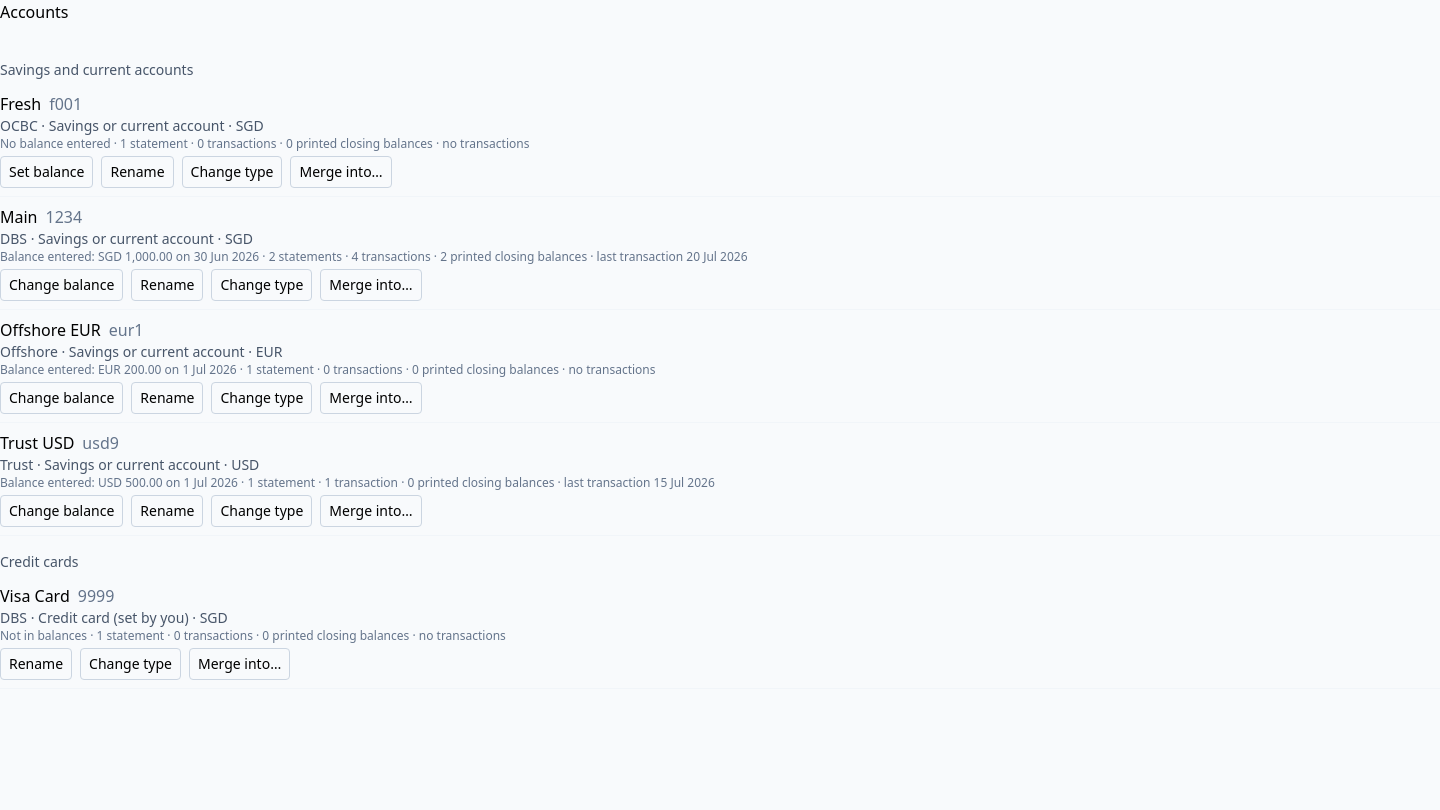
Scenario: AccountsSection: the actions › after a rename: closes the dialog, reports it, and shows the new name from a refreshed list
The width and height of the screenshot is (1440, 810).
Click the button "Rename" below "Main" at [167, 285], box left=131, top=269, right=204, bottom=301
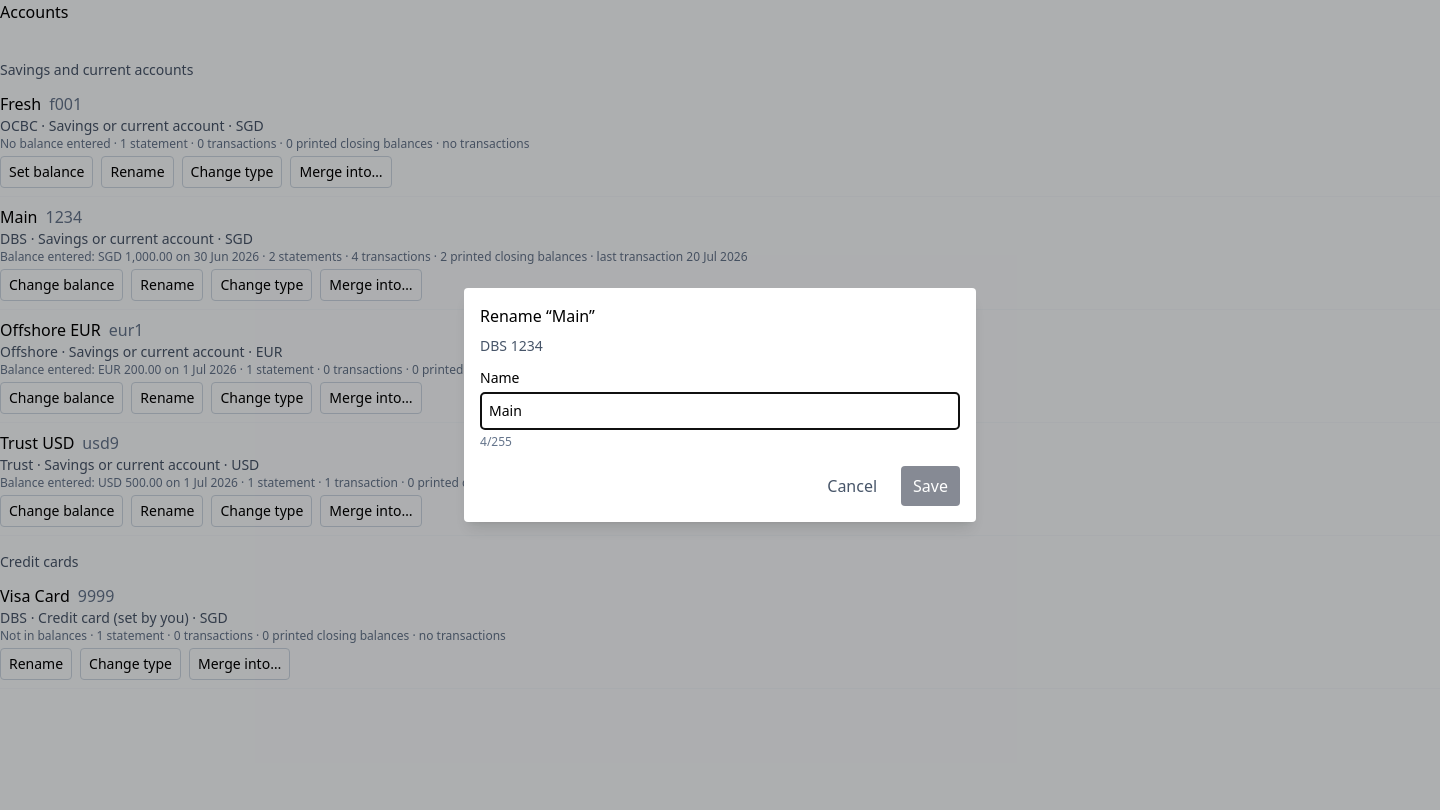
Replace the text in the field with test id "rename-input" with "Everyday" at [720, 411], box left=480, top=392, right=960, bottom=430
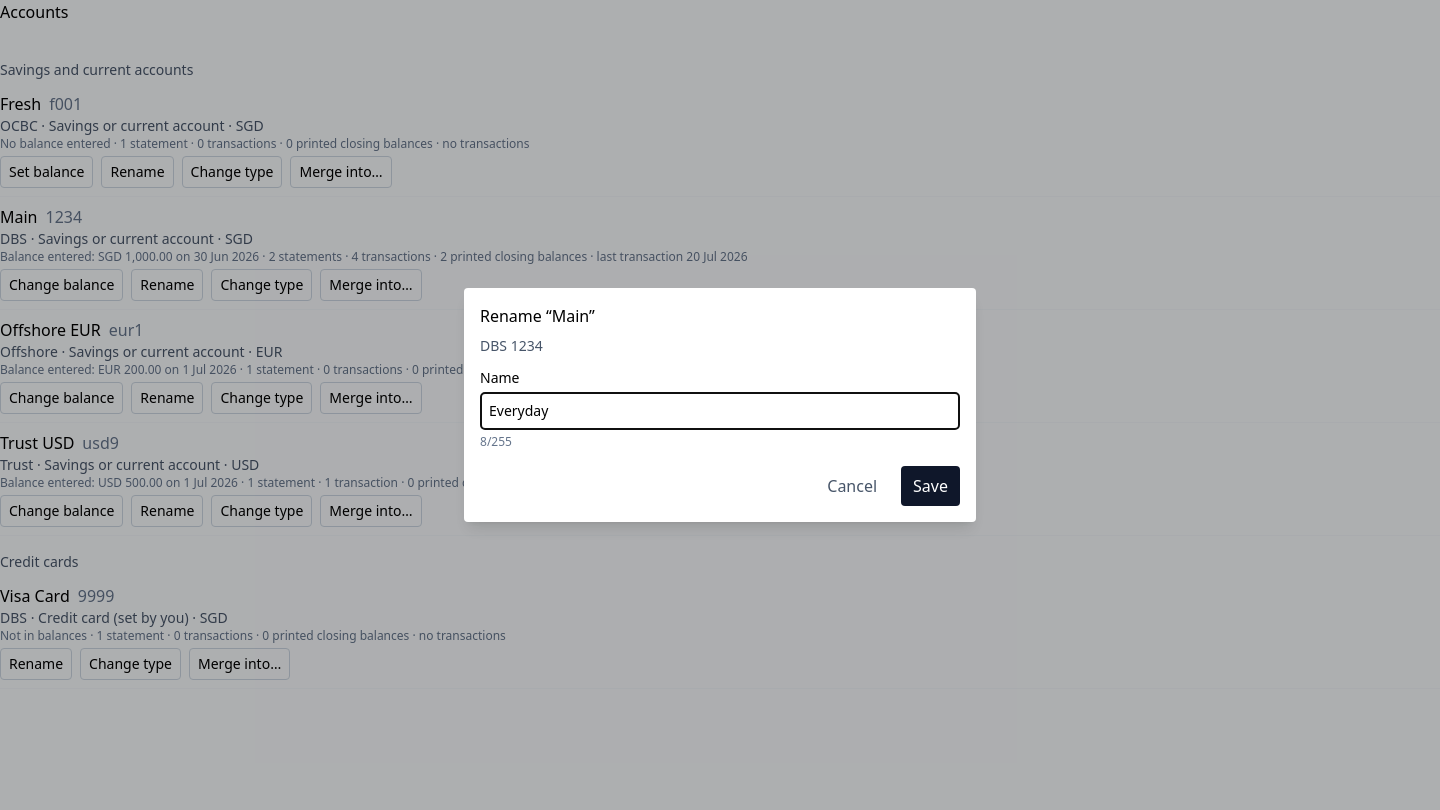
Click the button with test id "rename-save" at [931, 486], box left=901, top=466, right=960, bottom=506
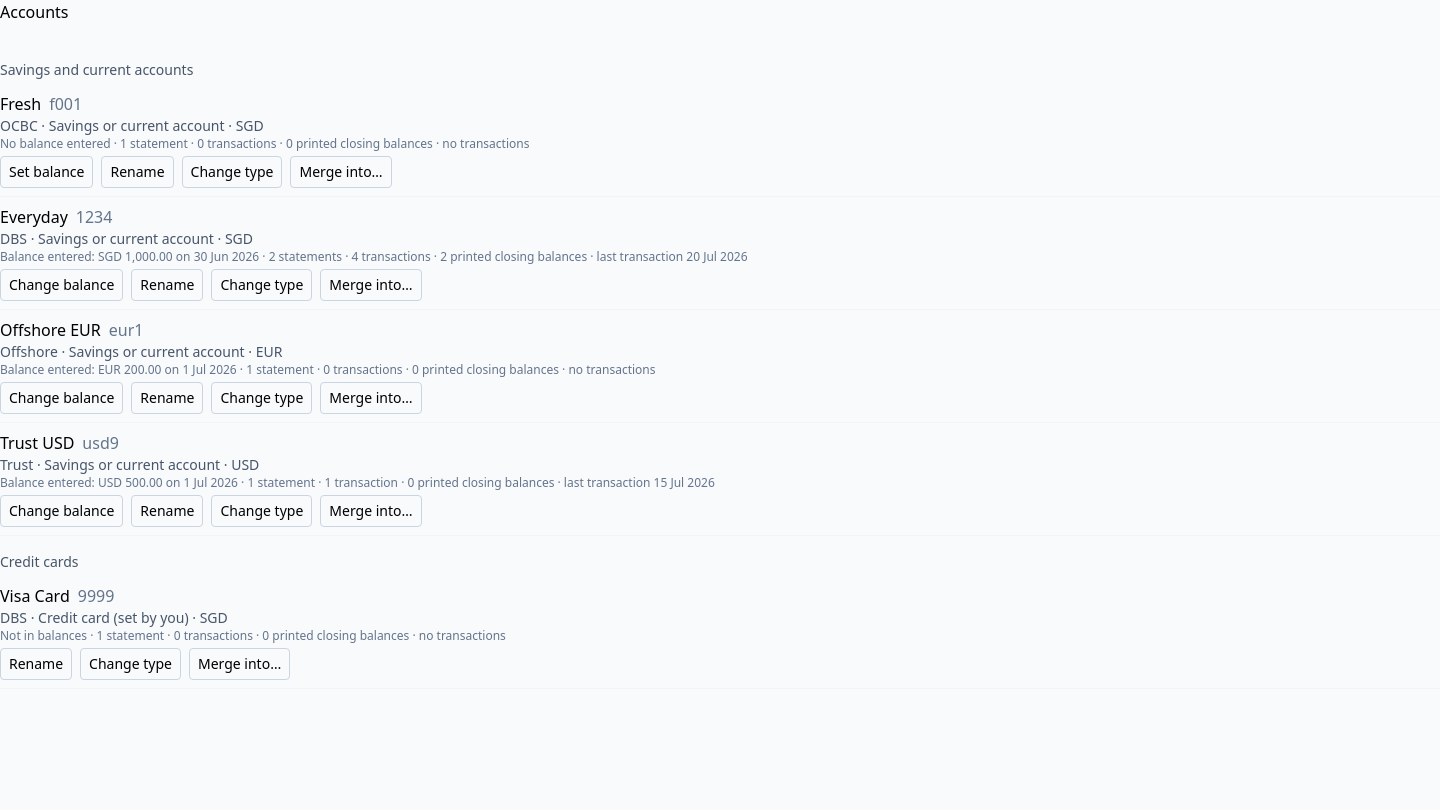
Check: the dialog with test id "rename-dialog" is gone
